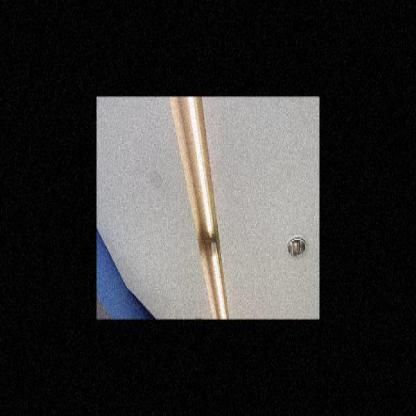light_on: (183, 96, 217, 242), (207, 242, 229, 319)
